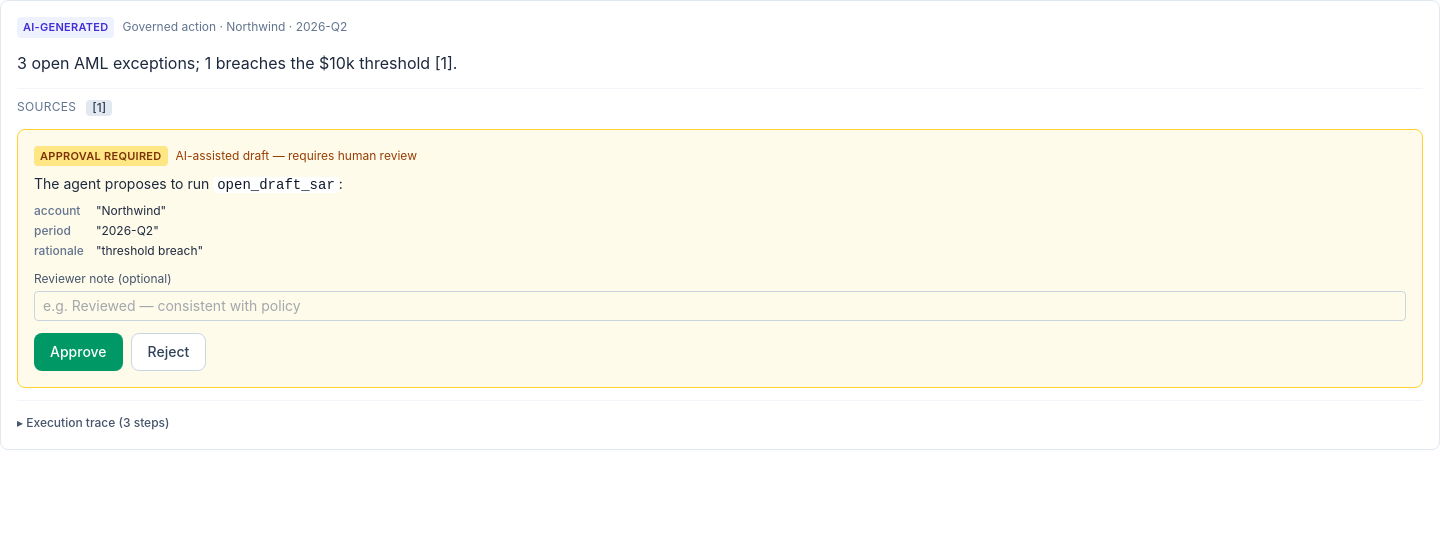
Test: AgentRunView — HITL surface › renders the collapsible execution trace
The width and height of the screenshot is (1440, 534).
Click the button "▸ Execution trace (3 steps)": (93, 423) [17,415,170,431]
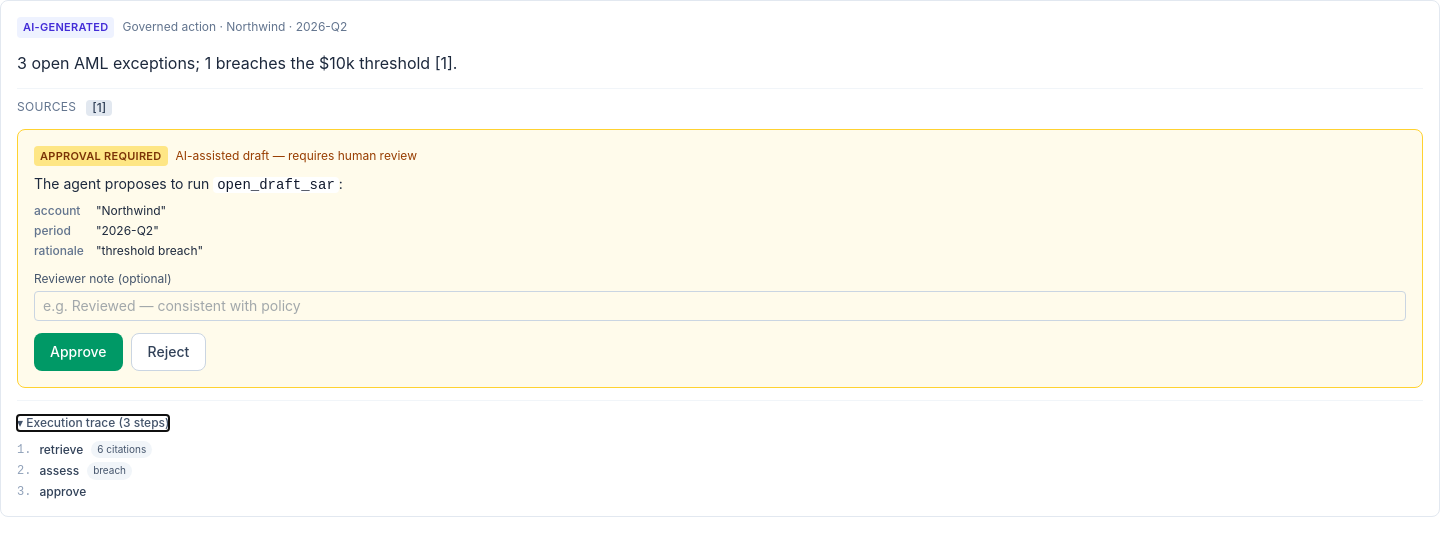
expect the list with test id "trace-steps" shows "retrieve": met, box [39,442,83,457]
expect the list with test id "trace-steps" shows "assess": met, box [39,463,79,478]
expect the list with test id "trace-steps" shows "breach": met, box [93,464,126,476]
